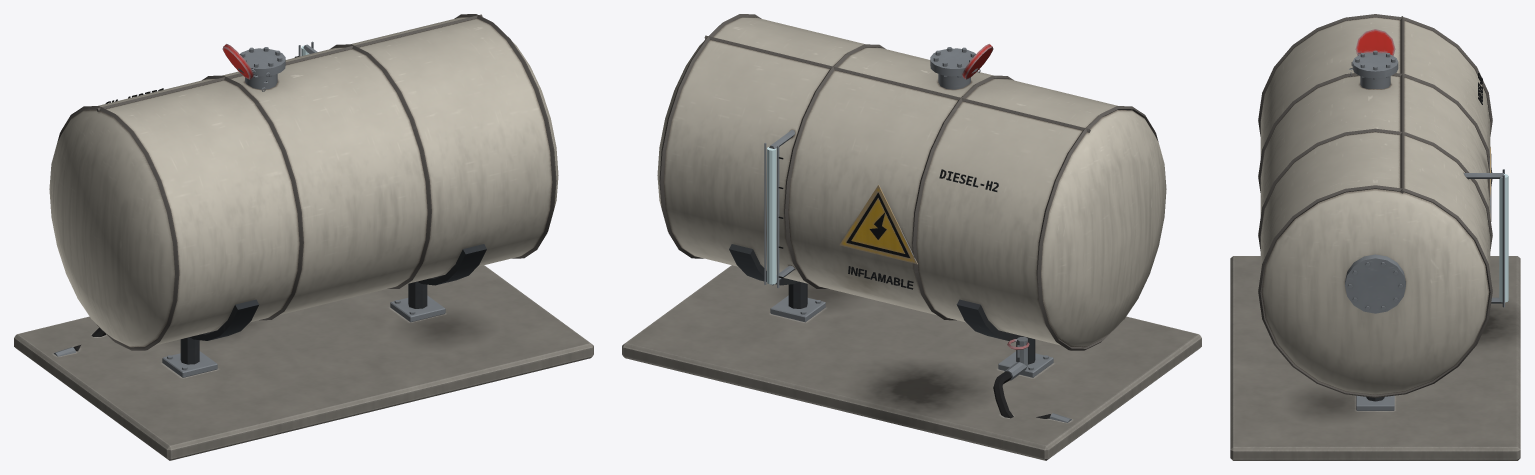
The model's file is tanque_combustible.fbx.
The picture shows the model from 3 angles, left to right: view 1: azimuth 30°, elevation 25°; view 2: azimuth 150°, elevation 25°; view 3: azimuth 270°, elevation 25°; orthographic projection. The views are drawn at different scales.
Visible parts, largest first — view 1: tanque_combustible; view 2: tanque_combustible, tanque_combustible_nivel_cristal; view 3: tanque_combustible, tanque_combustible_nivel_cristal.
Part boxes in pixels (left/top/right/bottom): tanque_combustible: left=14, top=14, right=593, bottom=460; tanque_combustible: left=622, top=14, right=1201, bottom=460; tanque_combustible_nivel_cristal: left=767, top=147, right=776, bottom=284; tanque_combustible: left=1230, top=14, right=1520, bottom=460; tanque_combustible_nivel_cristal: left=1499, top=174, right=1508, bottom=302.
Size of the model in its own units: 6.19 by 4.38 by 3.8.
2 materials, 1 textured.
